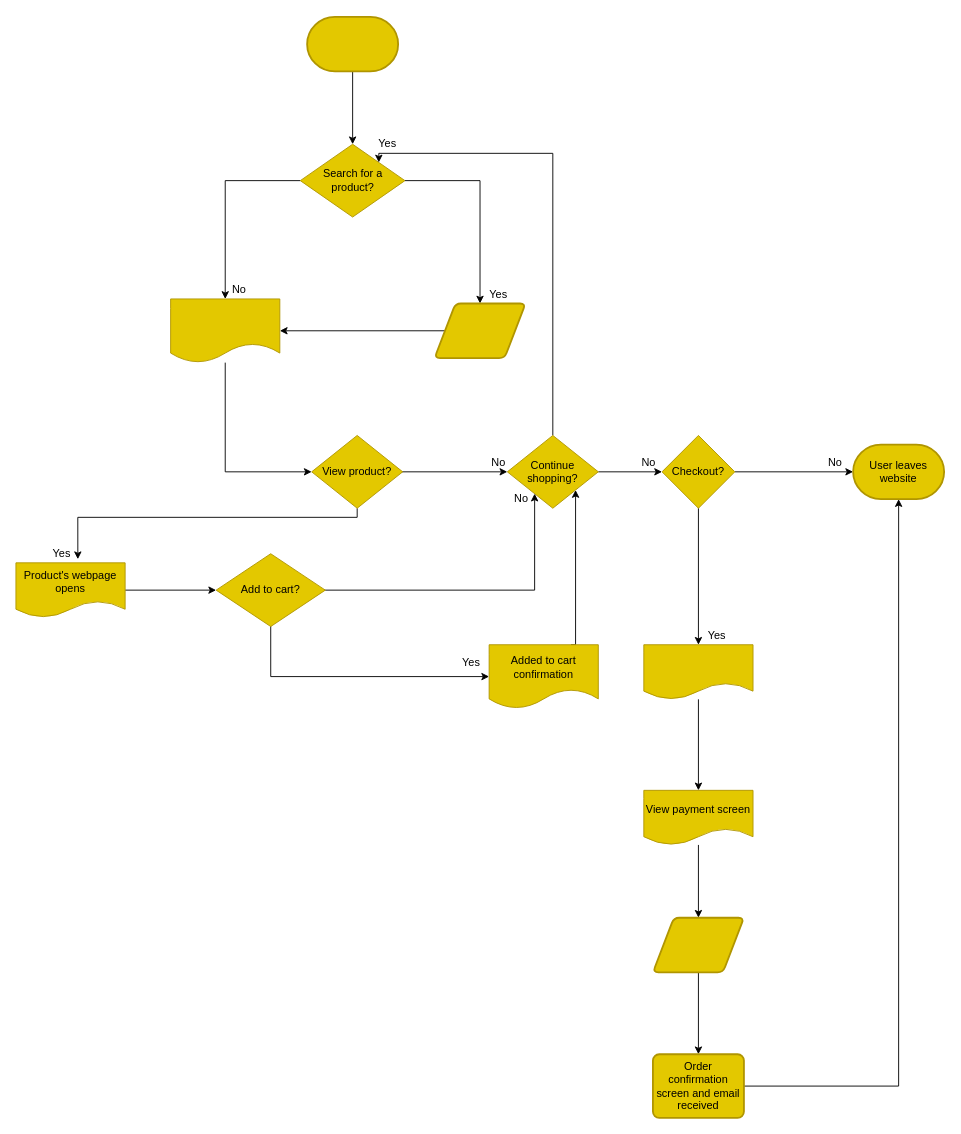
Image size: 961x1134. Some labels were removed from this diagram. The box of each missing label's shape, as (x1, y1, x2, y2) in pixels:
User browses products on page: (170, 298, 280, 363)
User enters payment info: (652, 916, 744, 973)
User enters search input: (433, 302, 526, 359)
User enters website home page: (306, 15, 399, 72)
View cart screen: (643, 644, 753, 699)
